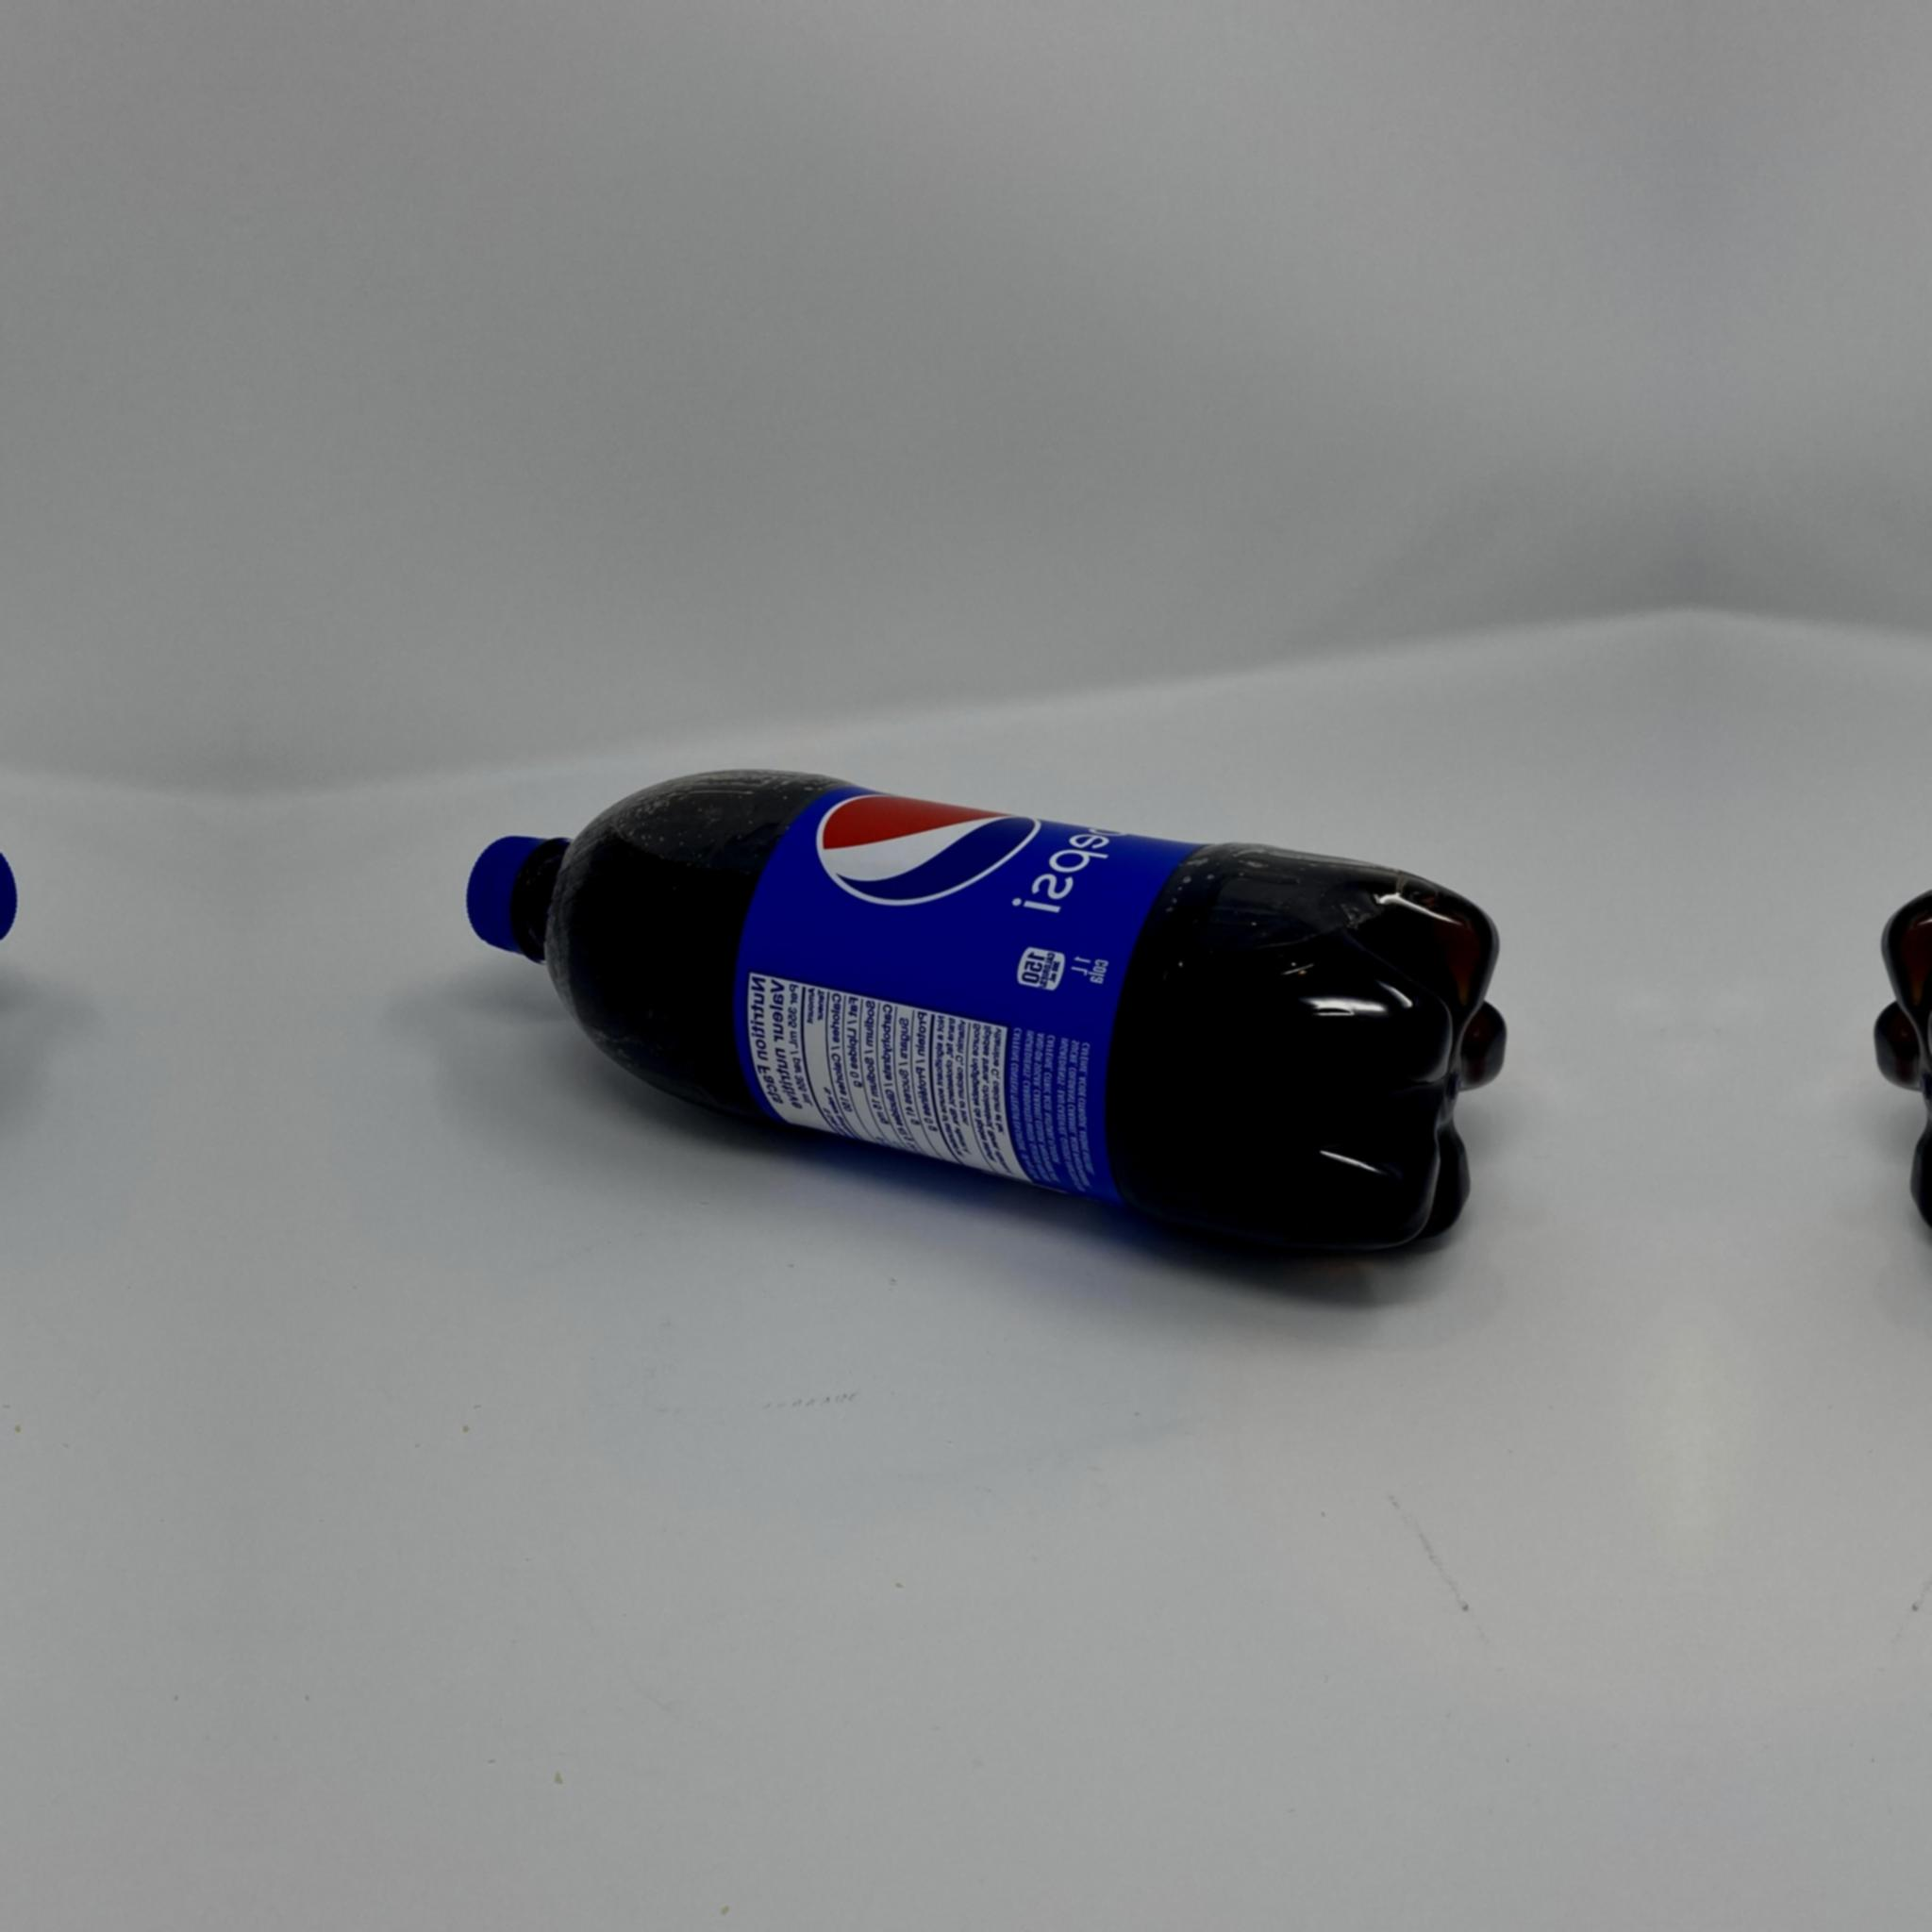PET: (465, 766, 1507, 1256)
pepsi: (465, 766, 1507, 1256)
plastic: (465, 766, 1507, 1256)
soft-drink: (465, 766, 1507, 1256)
